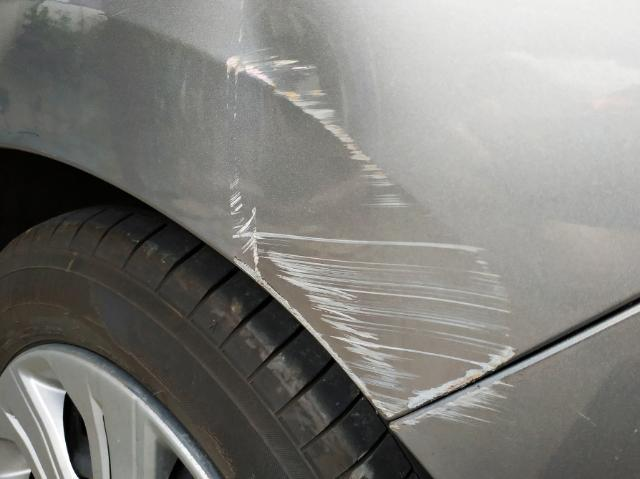Fender: (196, 20, 640, 420)
